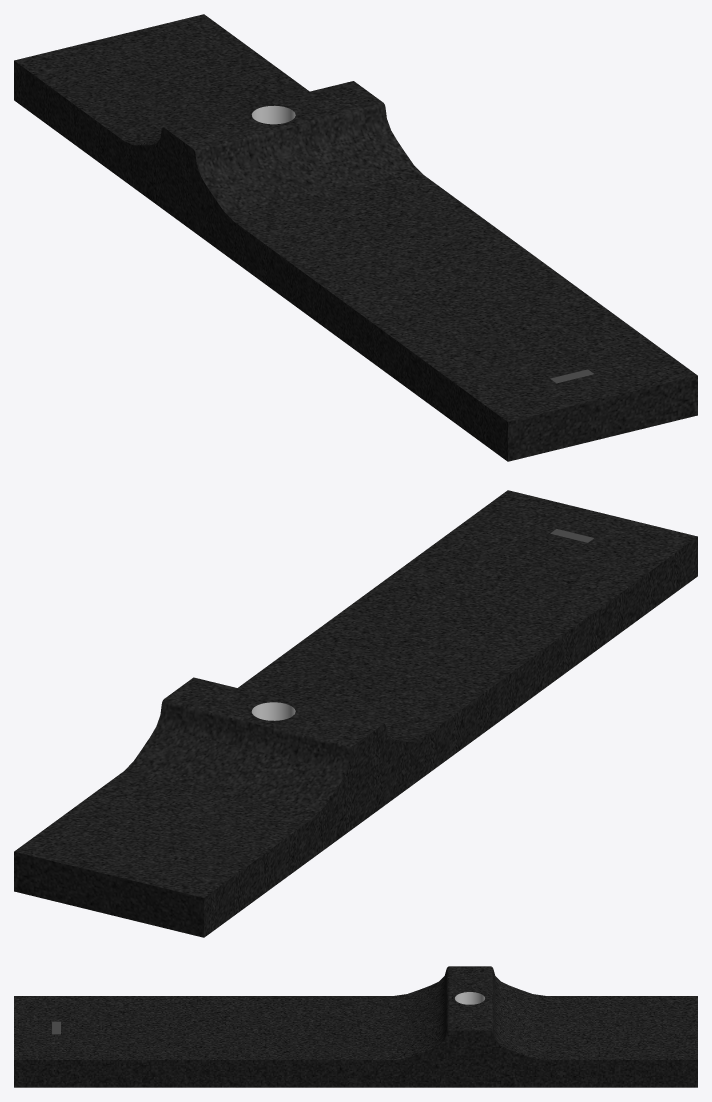
Rendered from Hole 2 Base.glb.
3 views of the same model, one above another, from view 1: azimuth 30°, elevation 25°; view 2: azimuth 150°, elevation 25°; view 3: azimuth 270°, elevation 25° (orthographic). The views are drawn at different scales.
Visible parts, largest first — view 1: Hole 2 Base; view 2: Hole 2 Base; view 3: Hole 2 Base.
Boxes of the visible parts, left/top/right/bottom form: Hole 2 Base: left=14, top=14, right=697, bottom=461; Hole 2 Base: left=14, top=490, right=697, bottom=937; Hole 2 Base: left=14, top=966, right=697, bottom=1087.
Size of what is drawn, in the model's own units: 2 by 0.83 by 9.
3 materials, 1 textured.
